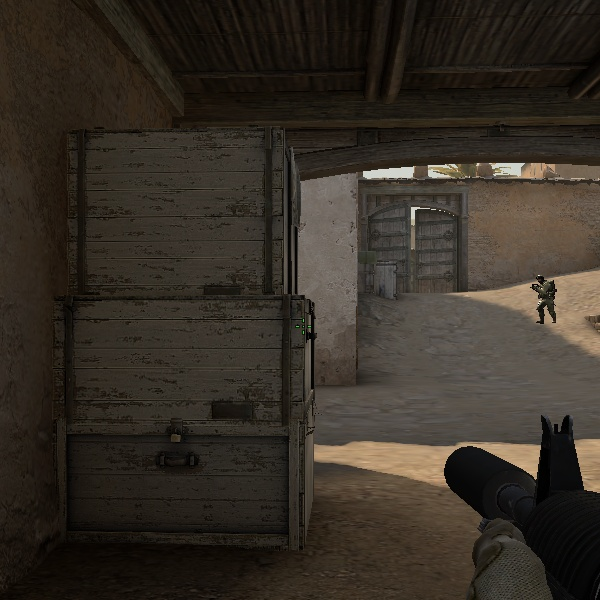ct_body: (528, 273, 558, 325)
ct_head: (536, 275, 545, 285)
